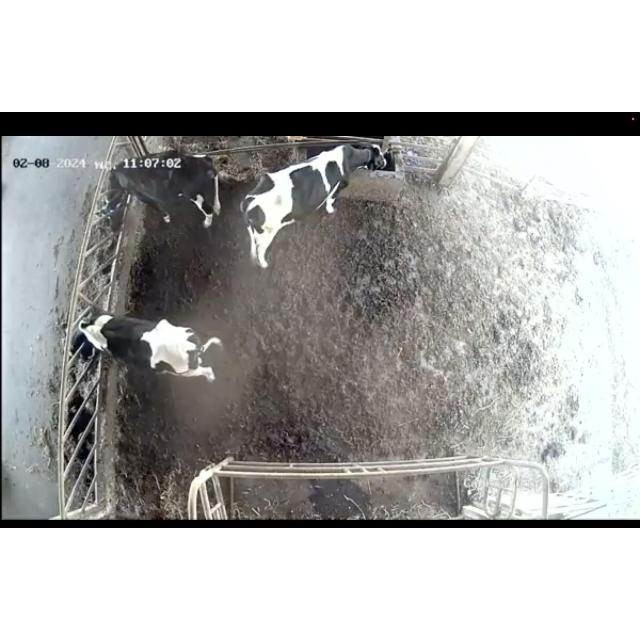drink: (338, 139, 398, 199)
eat: (80, 159, 158, 235), (58, 310, 119, 362)
